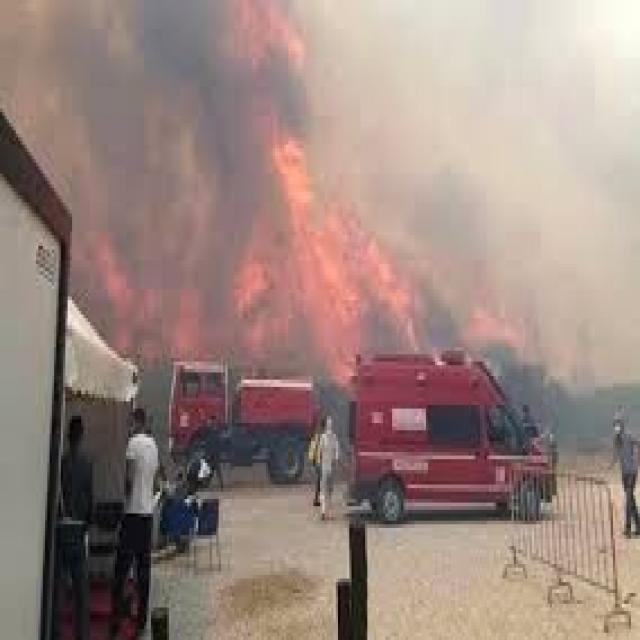ambulance: (348, 352, 560, 514)
pompier: (169, 359, 319, 498)
